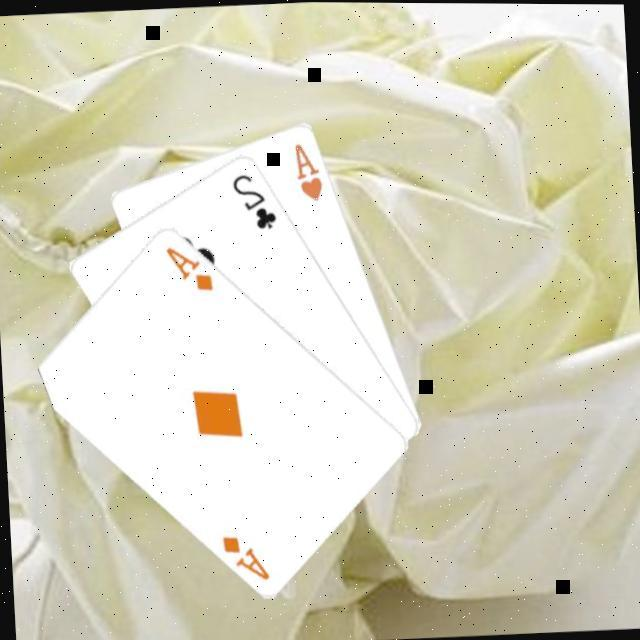2C: (230, 166, 283, 232)
AD: (162, 239, 218, 294), (220, 528, 274, 584)
AH: (292, 138, 328, 204)
